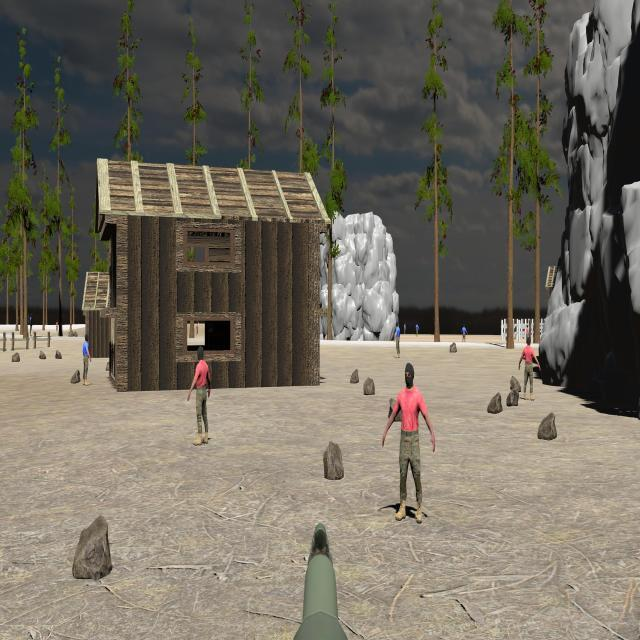Human: (381, 361, 435, 523), (188, 347, 211, 445), (519, 336, 540, 401), (82, 332, 91, 385)
